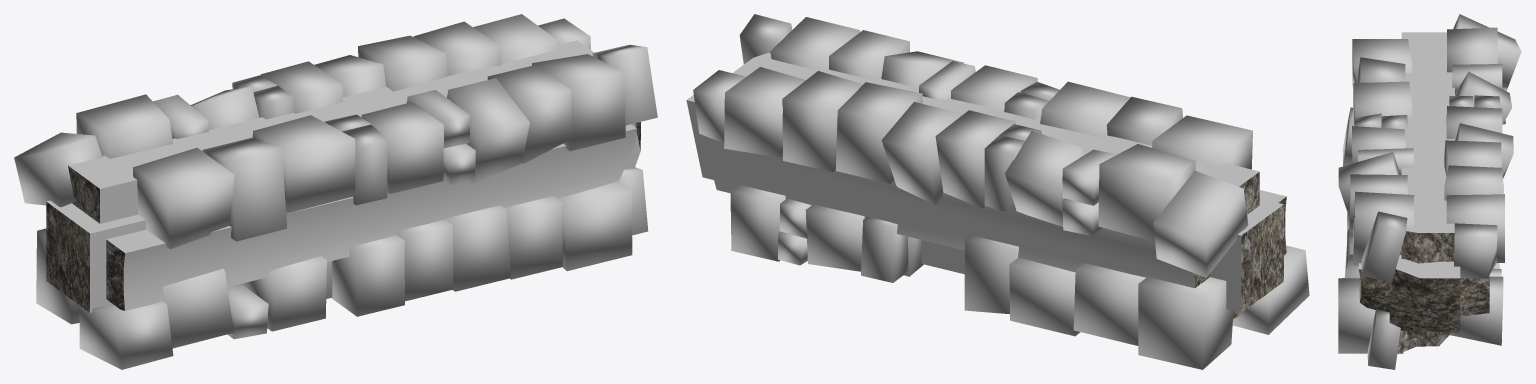
Rendered from Ruins_20C_LOD1.fbx.
3 renders of one model, left to right at view 1: azimuth 30°, elevation 25°; view 2: azimuth 150°, elevation 25°; view 3: azimuth 270°, elevation 25°, orthographic. The views are drawn at different scales.
Parts seen in each view (by area): view 1: polySurface3591; view 2: polySurface3591; view 3: polySurface3591.
Part boxes in pixels (<box>): polySurface3591: <box>14,14,657,369</box>; polySurface3591: <box>686,14,1309,369</box>; polySurface3591: <box>1338,14,1521,369</box>.
Size of the model in its own units: 4.1 by 1.28 by 1.41.
